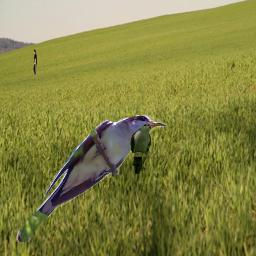Cuckoo: (17, 114, 166, 242), (130, 123, 152, 174)
